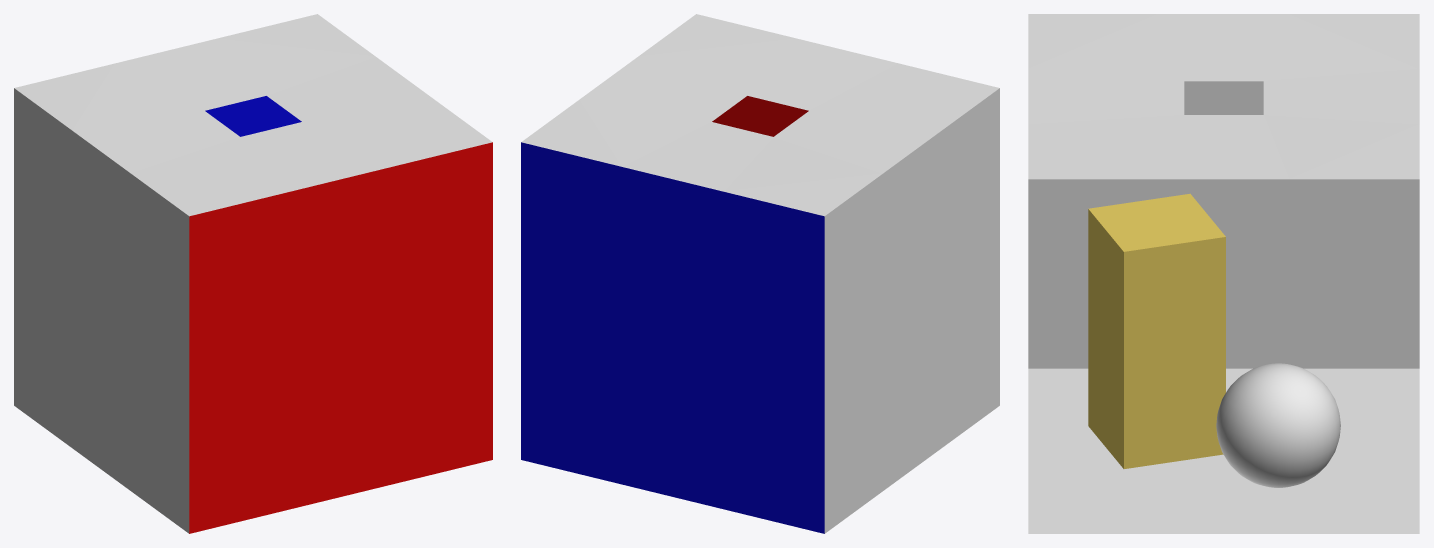
File: cornell-0.glb
3 renders of one model, left to right at view 1: azimuth 30°, elevation 25°; view 2: azimuth 150°, elevation 25°; view 3: azimuth 270°, elevation 25°, orthographic. The views are drawn at different scales.
Visible parts, largest first — view 1: Cube; view 2: Cube; view 3: Cube, Cube.001, Sphere.
Part boxes in pixels (x1,y1,x2,y2): Cube: [14, 14, 492, 533]; Cube: [521, 14, 999, 533]; Cube: [1028, 14, 1419, 533]; Cube.001: [1088, 193, 1225, 468]; Sphere: [1216, 363, 1340, 487].
Bounding box in the file's own units: 10 × 10.02 × 10.
